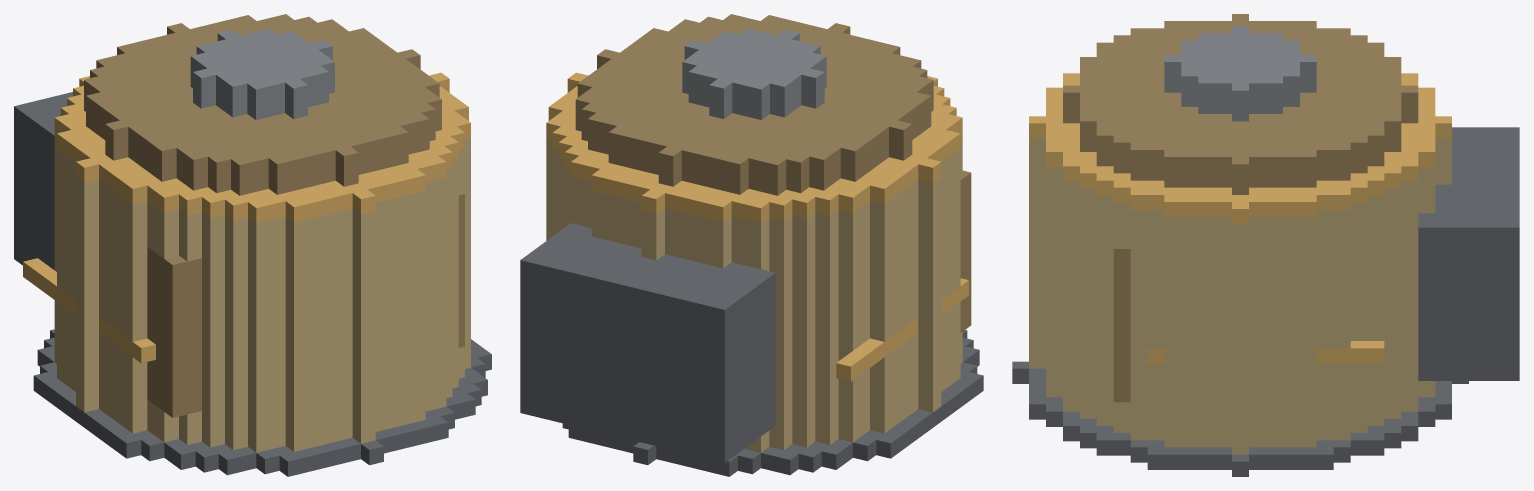
The model's file is turret_l.glb.
3 views of the same model, side by side, from view 1: azimuth 30°, elevation 25°; view 2: azimuth 150°, elevation 25°; view 3: azimuth 270°, elevation 25° (orthographic).
Size of the model in its own units: 26 by 21 by 30.
